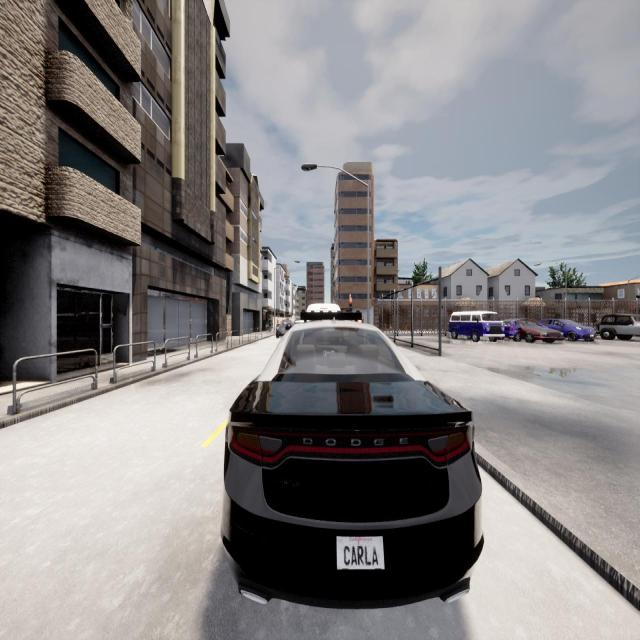Vehicle: (221, 322, 482, 606), (449, 311, 504, 342), (507, 319, 562, 343), (546, 319, 596, 341), (599, 314, 640, 340), (307, 304, 341, 313), (276, 320, 290, 337)
traffic_light: (349, 298, 352, 308)
